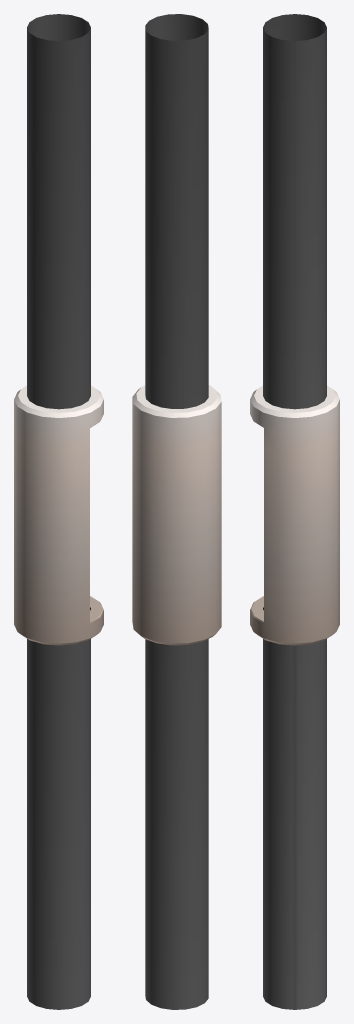
Rendered from SM_PneumaticTube.fbx.
The picture shows the model from 3 angles, left to right: view 1: azimuth 90°, elevation 25°; view 2: azimuth 150°, elevation 25°; view 3: azimuth 270°, elevation 25°; orthographic projection.
Visible parts, largest first — view 1: PneumaticTube; view 2: PneumaticTube; view 3: PneumaticTube.
Boxes of the visible parts, bbox=[...] form: PneumaticTube: bbox=[14, 14, 103, 1009]; PneumaticTube: bbox=[132, 14, 221, 1009]; PneumaticTube: bbox=[250, 14, 339, 1009].
Size of the model in its own units: 126 by 1500 by 126.
